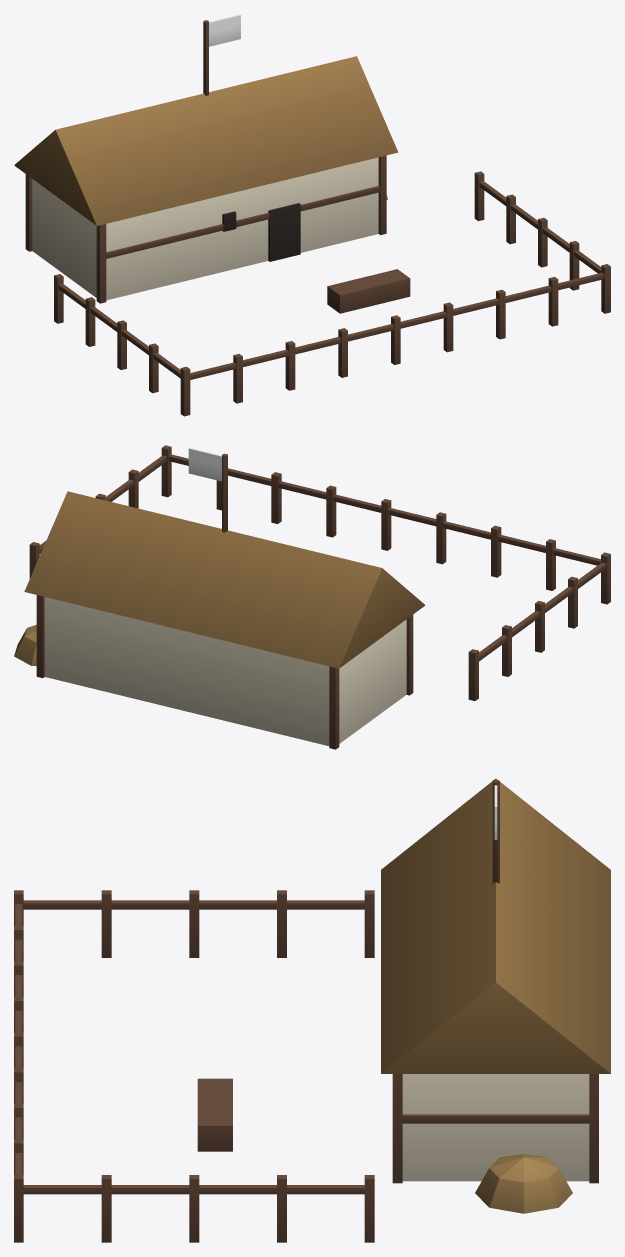
Rendered from STABLE_CELTIC.glb.
The picture shows the model from 3 angles, top to bottom: view 1: azimuth 30°, elevation 25°; view 2: azimuth 150°, elevation 25°; view 3: azimuth 270°, elevation 25°; orthographic projection. The views are drawn at different scales.
Visible parts, largest first — view 1: Body, Flag; view 2: Body, Flag; view 3: Body.
Part boxes in pixels (x1,y1,x2,y2): Body: (14,20,610,416); Flag: (209,14,240,46); Body: (14,445,610,749); Flag: (188,448,221,481); Body: (14,778,610,1242).
Bounding box in the file's own units: 4.87 × 2.4 × 4.26.
1 material, 1 textured.
